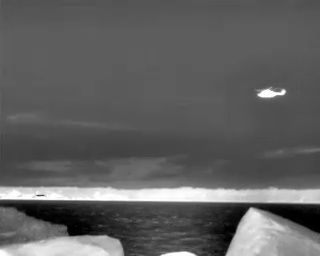HELICOPTER: (251, 81, 291, 105)
